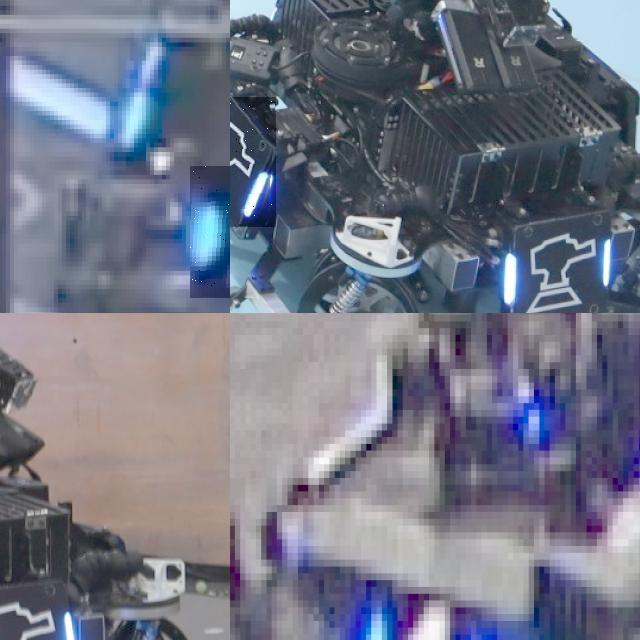B4: (355, 580, 486, 640)
B5: (190, 165, 230, 298)
Bs: (500, 222, 614, 313), (230, 97, 276, 227), (0, 596, 85, 640)
